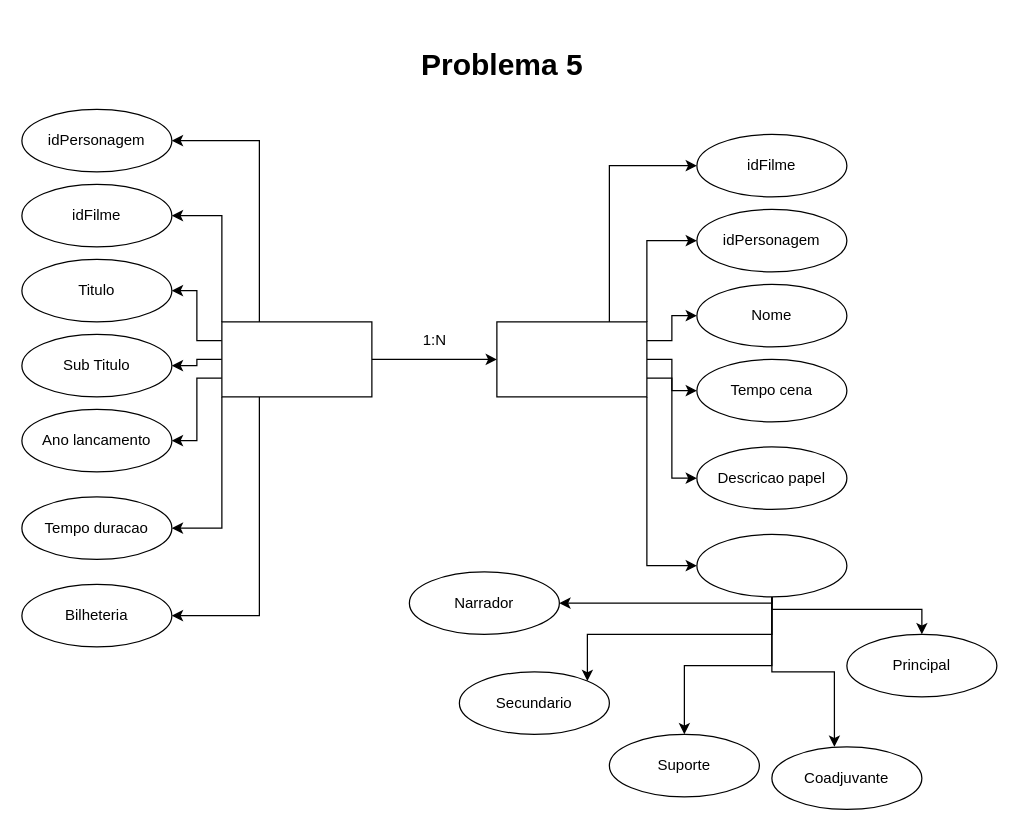
This 1019x831 diagram has some shape labels left out. The box of each missing label's shape, as (x1, y1, x2, y2) in pixels:
Filme: (221, 321, 372, 397)
Personagem: (496, 321, 647, 397)
Tipo papel: (696, 533, 847, 597)
